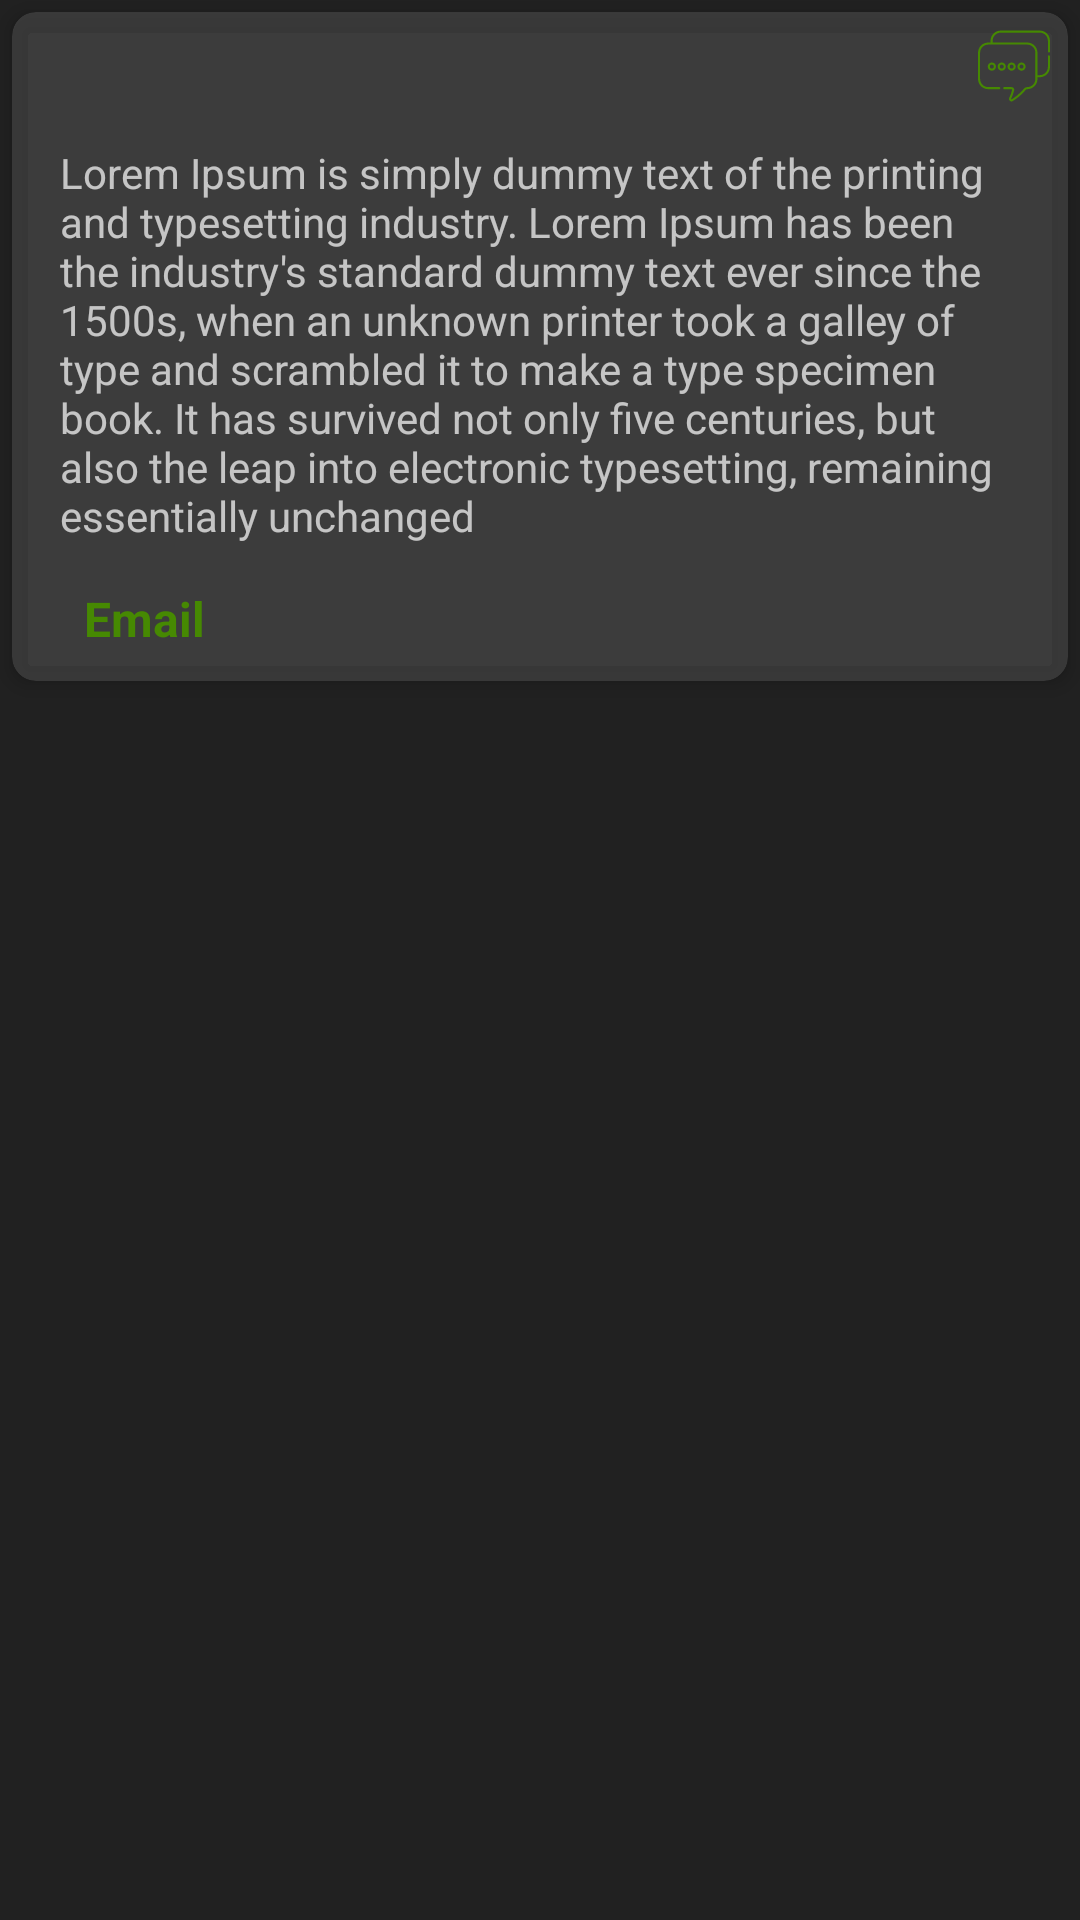

Where to tap for icons on this 1080*1920 app screen, as (x,y):
comments: (1014,66)
